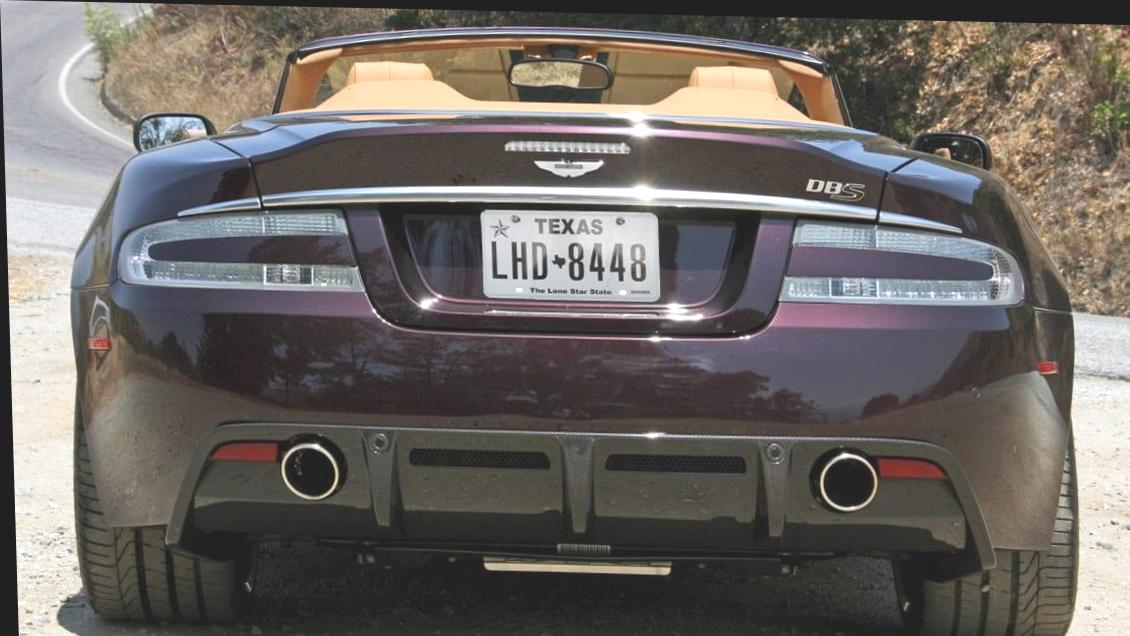License_Plate: (480, 208, 663, 301)
